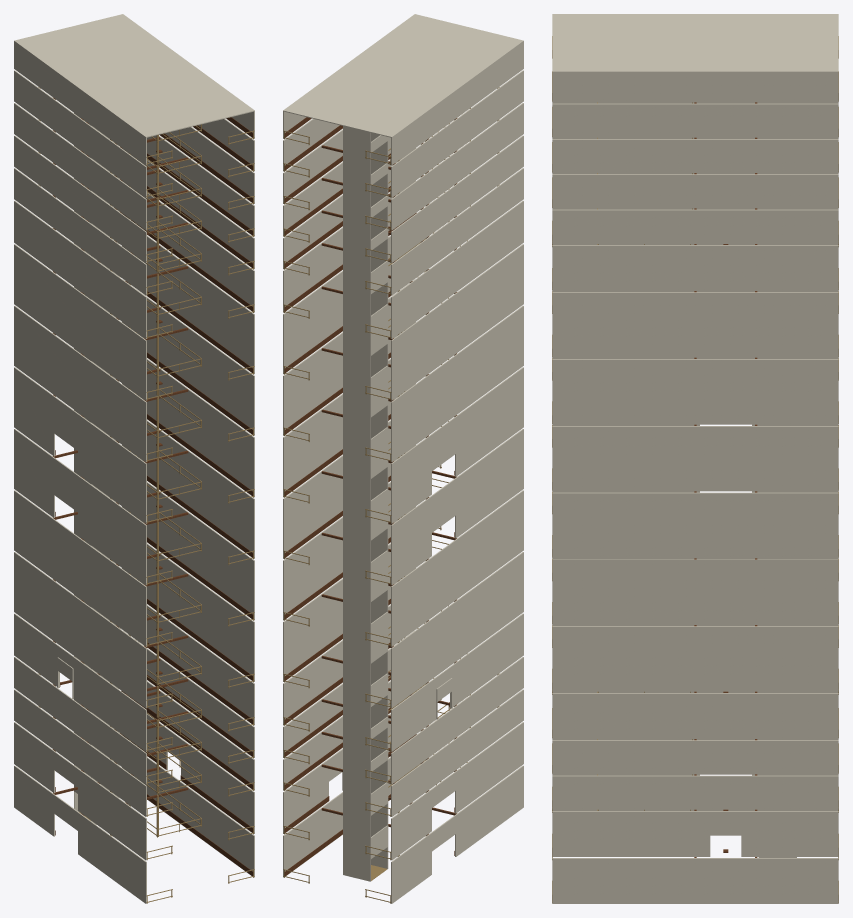
Rendered from AST-CIR-005_forward_pool_market_engineering_medical_access.glb.
3 renders of one model, left to right at view 1: azimuth 30°, elevation 25°; view 2: azimuth 150°, elevation 25°; view 3: azimuth 270°, elevation 25°, orthographic. The views are drawn at different scales.
Visible parts, largest first — view 1: CORE_TopCover, CORE_OuterWall_06_-1, CORE_OuterWall_10_-1, CORE_OuterWall_09_-1, CORE_OuterWall_05_-1, CORE_OuterWall_09_1, CORE_OuterWall_06_1, CORE_OuterWall_08_1, CORE_OuterWall_07_1, CORE_OuterWall_05_1, CORE_OuterWall_10_1, CORE_OuterWall_11_-1 (+44 smaller); view 2: CORE_ShaftNorth, CORE_TopCover, CORE_OuterWall_06_-1, CORE_OuterWall_10_-1, CORE_OuterWall_09_-1, CORE_OuterWall_05_-1, CORE_ShaftSouth, CORE_OuterWall_11_-1, CORE_OuterWall_12_-1, CORE_OuterWall_03_-1, CORE_OuterWall_15_-1, CORE_OuterWall_02_-1 (+37 smaller); view 3: CORE_OuterWall_07_1, CORE_OuterWall_05_1, CORE_OuterWall_06_1, CORE_OuterWall_08_1, CORE_OuterWall_09_1, CORE_OuterWall_10_1, CORE_TopCover, CORE_OuterWall_00_1, CORE_OuterWall_04_1, CORE_OuterWall_11_1, CORE_OuterWall_02_1, CORE_OuterWall_03_1 (+10 smaller).
Part boxes in pixels (x1,y1,x2,y2): CORE_TopCover: [14, 14, 254, 137]; CORE_OuterWall_06_-1: [14, 490, 146, 646]; CORE_OuterWall_10_-1: [14, 244, 146, 400]; CORE_OuterWall_09_-1: [14, 305, 146, 461]; CORE_OuterWall_05_-1: [14, 552, 146, 708]; CORE_OuterWall_09_1: [122, 279, 254, 435]; CORE_OuterWall_06_1: [122, 482, 254, 620]; CORE_OuterWall_08_1: [122, 358, 254, 497]; CORE_OuterWall_07_1: [122, 420, 254, 558]; CORE_OuterWall_05_1: [122, 543, 254, 681]; CORE_OuterWall_10_1: [122, 235, 254, 374]; CORE_OuterWall_11_-1: [14, 200, 146, 338]; CORE_ShaftNorth: [343, 106, 370, 881]; CORE_TopCover: [283, 14, 523, 137]; CORE_OuterWall_06_-1: [391, 490, 523, 646]; CORE_OuterWall_10_-1: [391, 244, 523, 400]; CORE_OuterWall_09_-1: [391, 305, 523, 461]; CORE_OuterWall_05_-1: [391, 552, 523, 708]; CORE_ShaftSouth: [361, 93, 388, 868]; CORE_OuterWall_11_-1: [391, 200, 523, 338]; CORE_OuterWall_12_-1: [391, 168, 523, 295]; CORE_OuterWall_03_-1: [391, 657, 523, 784]; CORE_OuterWall_15_-1: [391, 70, 523, 197]; CORE_OuterWall_02_-1: [391, 689, 523, 816]; CORE_OuterWall_07_1: [552, 492, 838, 558]; CORE_OuterWall_05_1: [552, 626, 838, 691]; CORE_OuterWall_06_1: [552, 559, 838, 624]; CORE_OuterWall_08_1: [552, 426, 838, 491]; CORE_OuterWall_09_1: [552, 359, 838, 424]; CORE_OuterWall_10_1: [552, 292, 838, 357]; CORE_TopCover: [552, 14, 838, 72]; CORE_OuterWall_00_1: [552, 858, 838, 903]; CORE_OuterWall_04_1: [552, 693, 838, 738]; CORE_OuterWall_11_1: [552, 245, 838, 290]; CORE_OuterWall_02_1: [552, 775, 838, 809]; CORE_OuterWall_03_1: [552, 740, 838, 774].
Size of the model in its own units: 15.88 by 106 by 33.08.
4 materials, 3 textured.
